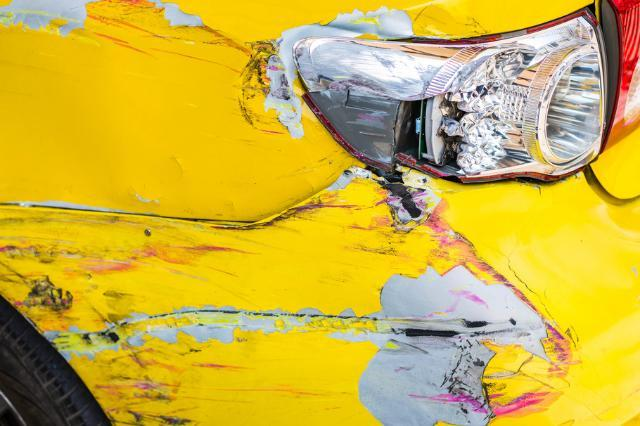Bumper: (5, 168, 587, 426)
Fender: (0, 0, 332, 203)
Light: (303, 32, 605, 170)
